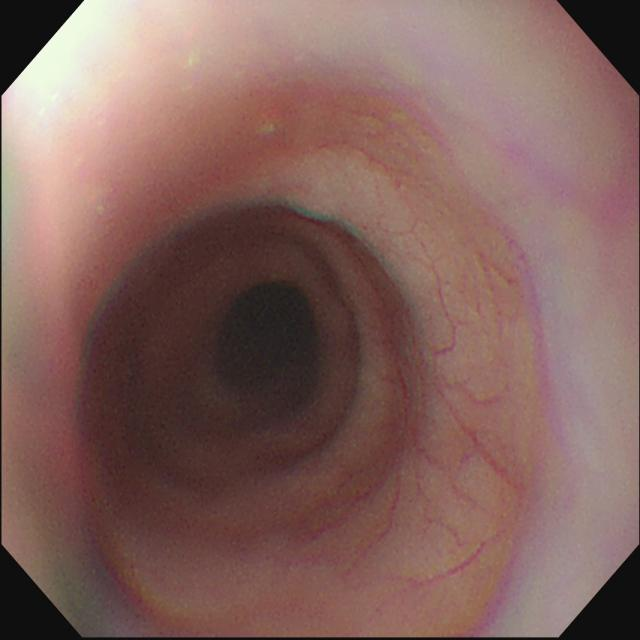E: (217, 284, 320, 391)
